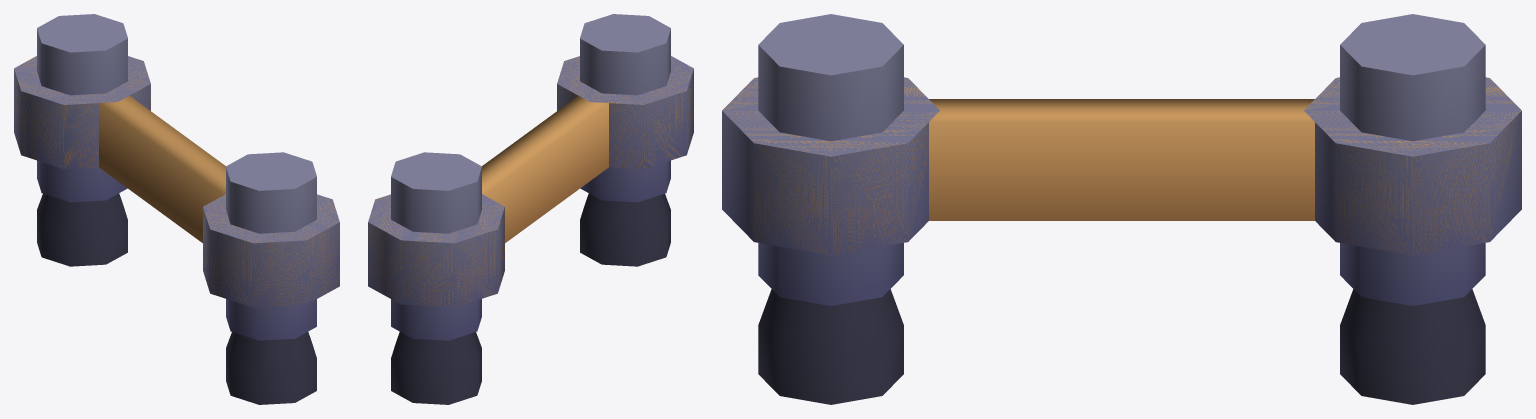
File: structure-yellow-short.glb
The picture shows the model from 3 angles, left to right: view 1: azimuth 30°, elevation 25°; view 2: azimuth 150°, elevation 25°; view 3: azimuth 270°, elevation 25°; orthographic projection. The views are drawn at different scales.
Parts seen in each view (by area): view 1: structure-yellow-short; view 2: structure-yellow-short; view 3: structure-yellow-short.
Boxes of the visible parts, x1=… form: structure-yellow-short: x1=14, y1=14, x2=339, y2=404; structure-yellow-short: x1=368, y1=14, x2=693, y2=404; structure-yellow-short: x1=722, y1=14, x2=1521, y2=404.
Size of the model in its own units: 0.3 by 0.5 by 1.1.
